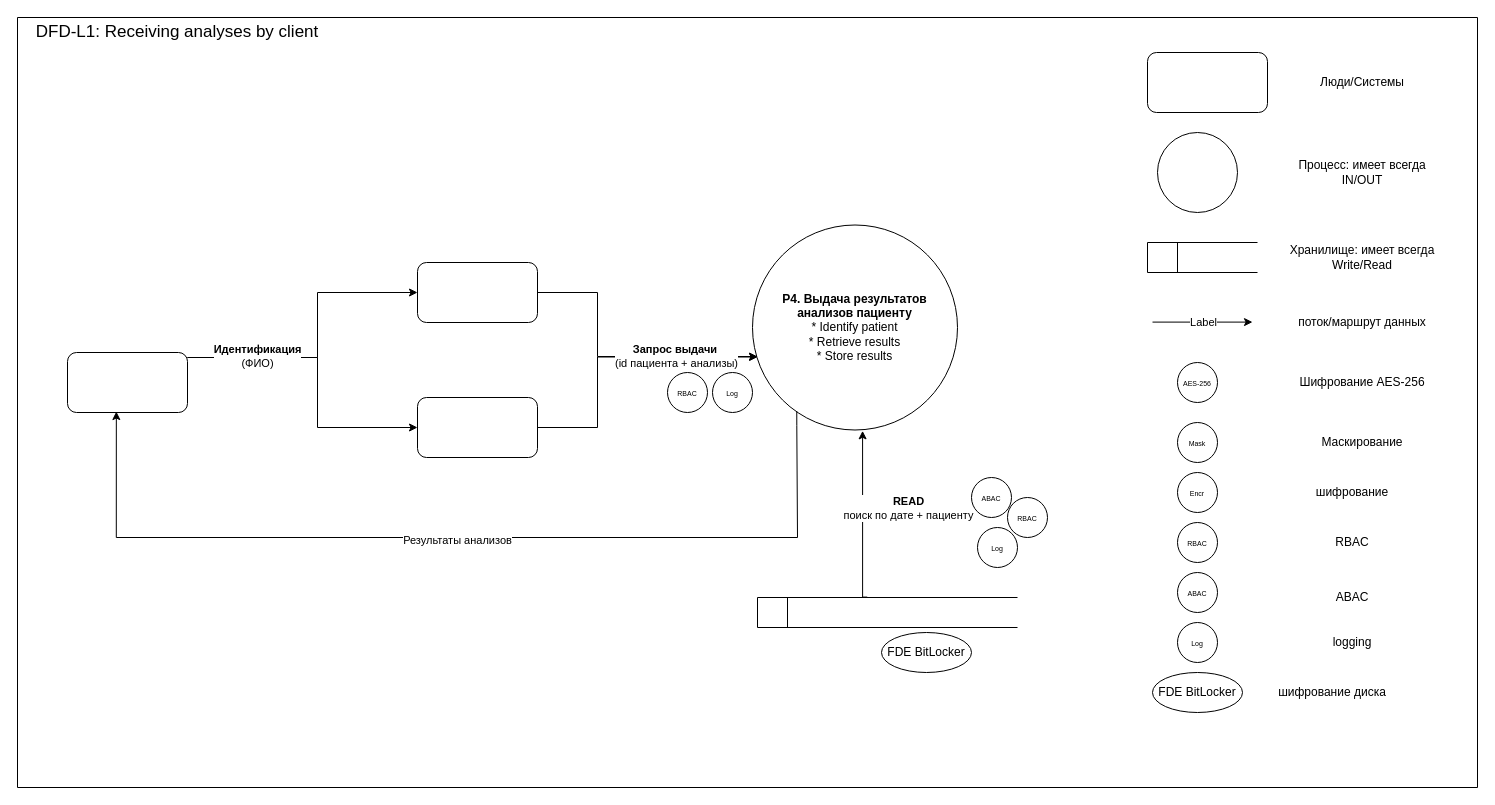
The diagram is 1495 pixels wide and 805 high, and some of its shapes have lost their labels. The shapes that lost their labels are listed below. From the top down, each one's centre as x and y in pixels, then its label:
[1207,82]: External object
[1197,172]: P1. Procces
[1202,257]: D1 Storage
[477,292]: Reception (ресепшн)
[127,382]: Patient (пациент)
[477,427]: Doctor (врач)
[887,612]: D5 RegistryByDate.xlsx анализы по дате
